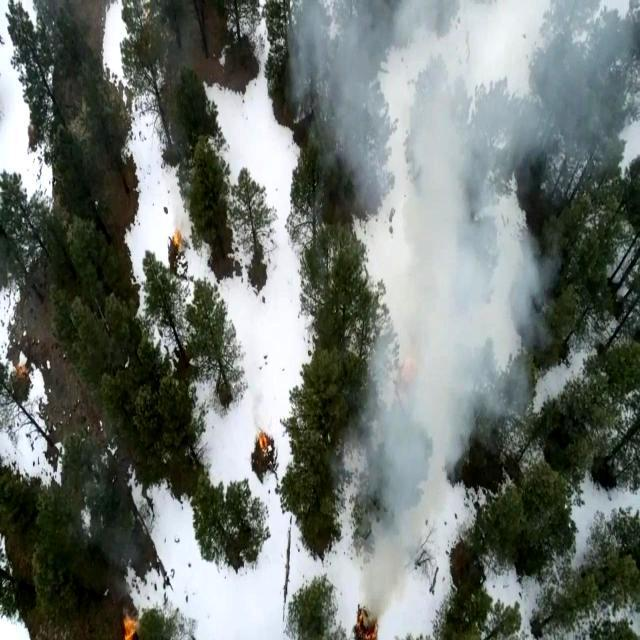Fire: (354, 598, 382, 638), (254, 419, 272, 462), (168, 224, 188, 256)
Smoke: (339, 190, 547, 610), (267, 4, 640, 216), (68, 0, 212, 228)
